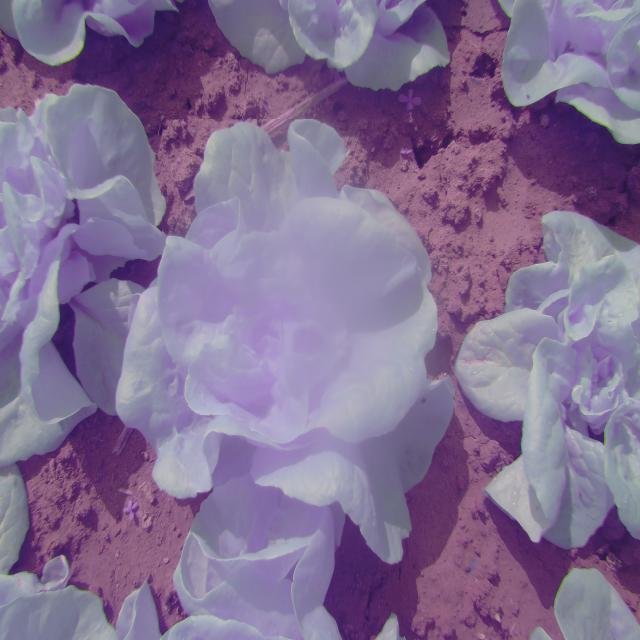vege: (162, 120, 455, 544)
